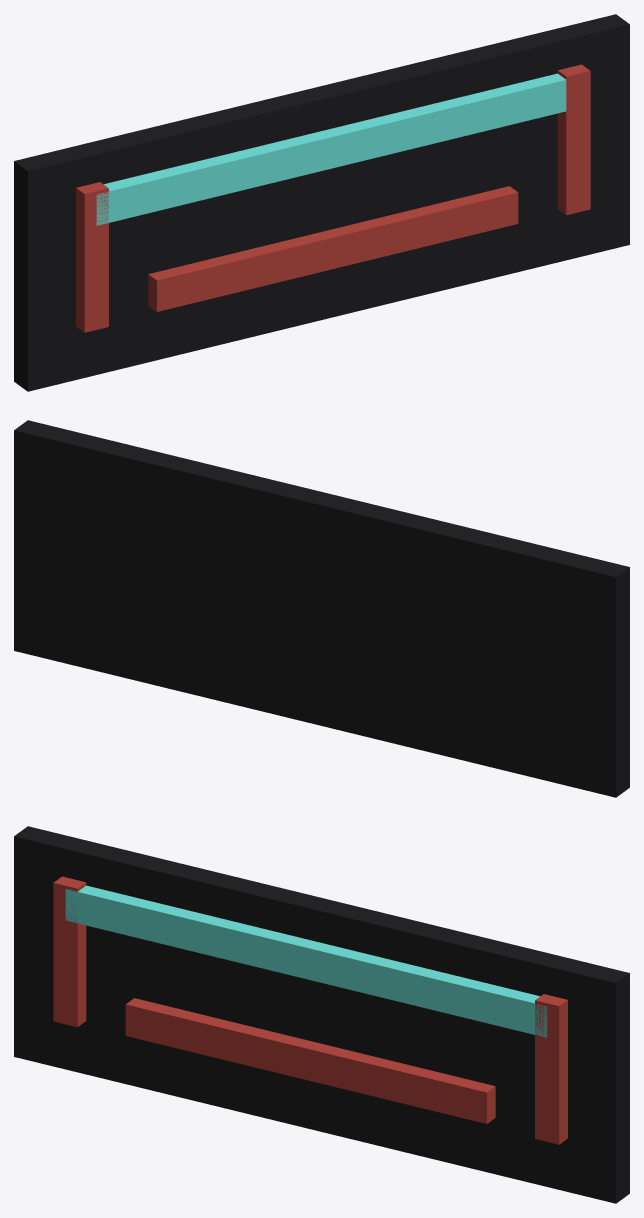
The model's file is GD_NeonSign_01.glb.
3 views of the same model, one above another, from view 1: azimuth 30°, elevation 25°; view 2: azimuth 150°, elevation 25°; view 3: azimuth 330°, elevation 25° (orthographic).
Parts seen in each view (by area): view 1: GD_NeonSign_01; view 2: GD_NeonSign_01; view 3: GD_NeonSign_01.
Part boxes in pixels (left/top/right/bottom): GD_NeonSign_01: left=14, top=14, right=629, bottom=391; GD_NeonSign_01: left=14, top=420, right=629, bottom=797; GD_NeonSign_01: left=14, top=826, right=629, bottom=1203.
Bounding box in the file's own units: 1 × 0.35 × 0.065.
1 material, 1 textured.
